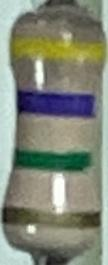Blue: (16, 89, 96, 118)
Green: (12, 146, 93, 172)
Side-Silver: (2, 206, 102, 230)
